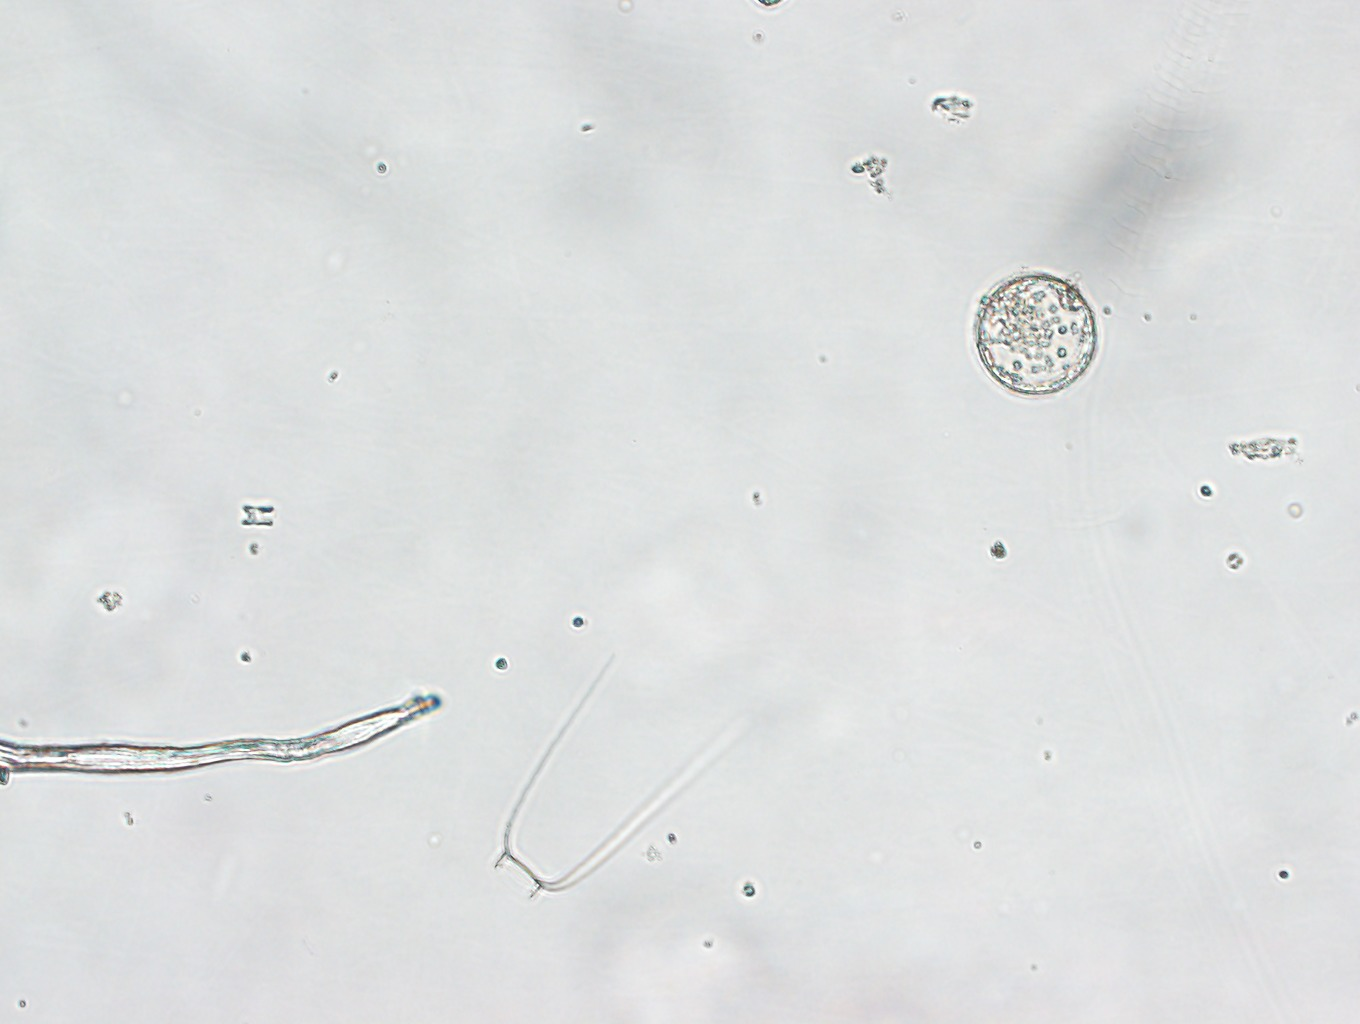chaetoceros: (482, 665, 728, 941)
coscinodiscus: (967, 262, 1108, 407)
